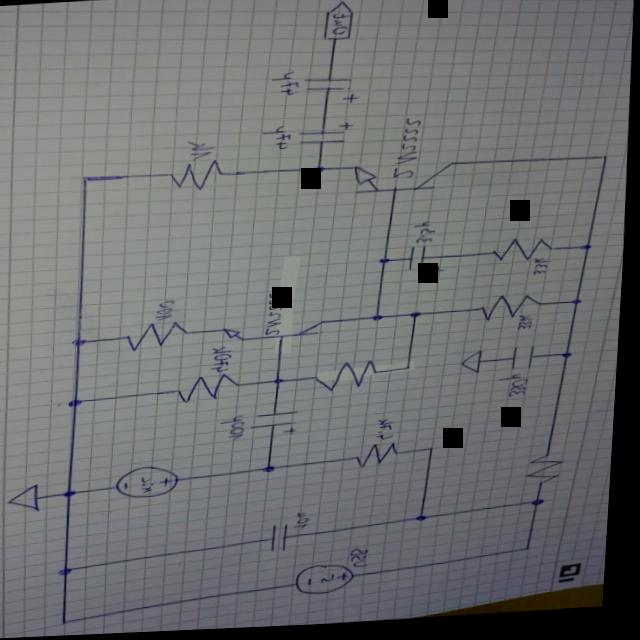capacitor: (301, 79, 362, 110), (298, 123, 357, 150), (408, 248, 453, 281), (254, 413, 307, 440), (512, 349, 541, 376), (274, 525, 298, 556)
ground: (9, 483, 49, 515), (463, 354, 488, 379)
junction: (70, 399, 89, 410), (78, 175, 97, 185), (74, 339, 92, 349), (63, 568, 81, 578), (266, 468, 283, 477), (412, 315, 428, 324), (313, 169, 328, 178), (536, 504, 552, 512), (375, 317, 389, 326), (420, 518, 435, 526), (582, 249, 597, 257), (68, 491, 83, 499), (564, 357, 579, 365), (276, 380, 290, 388), (381, 261, 395, 269), (573, 303, 587, 311), (429, 450, 442, 457), (407, 369, 417, 376), (67, 620, 77, 627), (601, 160, 612, 166), (529, 552, 539, 557)
resistor: (313, 363, 385, 395), (127, 322, 193, 355), (167, 161, 230, 195), (178, 375, 247, 406), (480, 297, 546, 326), (493, 241, 560, 267), (530, 458, 571, 491), (360, 445, 406, 472)
source: (300, 565, 366, 600)
terminal: (321, 2, 358, 46)
text: (391, 121, 427, 189), (267, 295, 290, 338), (263, 126, 295, 155), (270, 72, 301, 99), (503, 377, 534, 403), (225, 416, 253, 444), (213, 348, 238, 376), (187, 141, 217, 164), (412, 224, 439, 248), (158, 302, 181, 323), (380, 422, 401, 444), (331, 14, 349, 39), (356, 552, 377, 573), (141, 475, 161, 497), (533, 262, 554, 282), (520, 318, 539, 336), (301, 514, 318, 533), (325, 576, 343, 588)
transistor: (348, 162, 463, 201), (224, 322, 328, 346)
